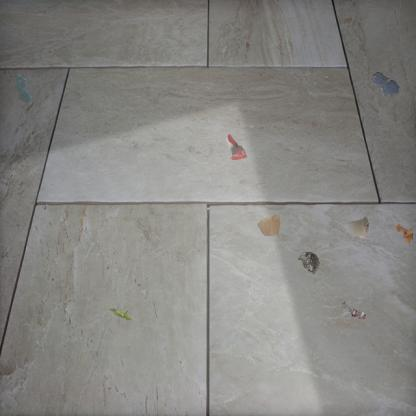dirty: (255, 212, 282, 238), (296, 250, 322, 276), (347, 215, 371, 243), (225, 132, 248, 161), (340, 299, 367, 321), (107, 306, 135, 324), (394, 222, 415, 244)
liquid: (370, 72, 400, 98), (13, 74, 33, 102)
